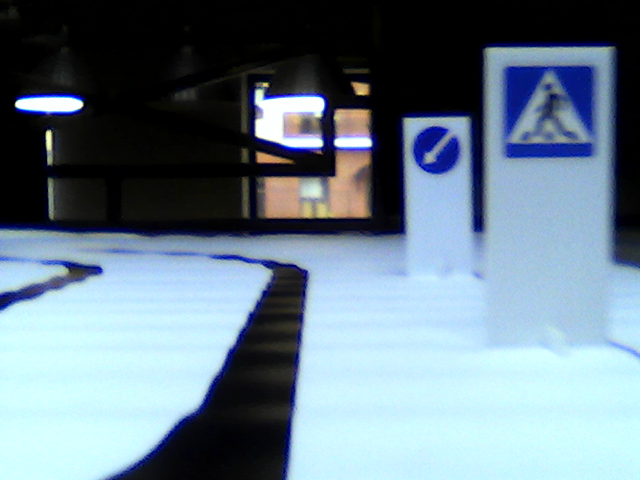pesh: (502, 63, 596, 158)
prep: (413, 125, 459, 175)
